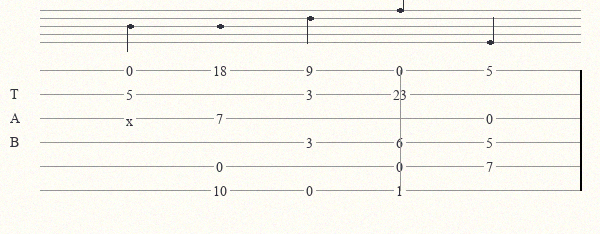0: (126, 63, 137, 77), (216, 159, 227, 173), (306, 183, 317, 197), (396, 159, 407, 173), (396, 63, 407, 77), (486, 111, 497, 125)
1: (396, 183, 407, 197)
10: (213, 183, 231, 197)
18: (213, 63, 231, 77)
23: (393, 87, 411, 101)
3: (306, 135, 317, 149), (306, 87, 317, 101)
5: (126, 87, 137, 101), (486, 63, 497, 77), (486, 135, 497, 149)
6: (396, 135, 407, 149)
7: (216, 111, 227, 125), (486, 159, 497, 173)
9: (306, 63, 317, 77)
x: (126, 113, 137, 124)
